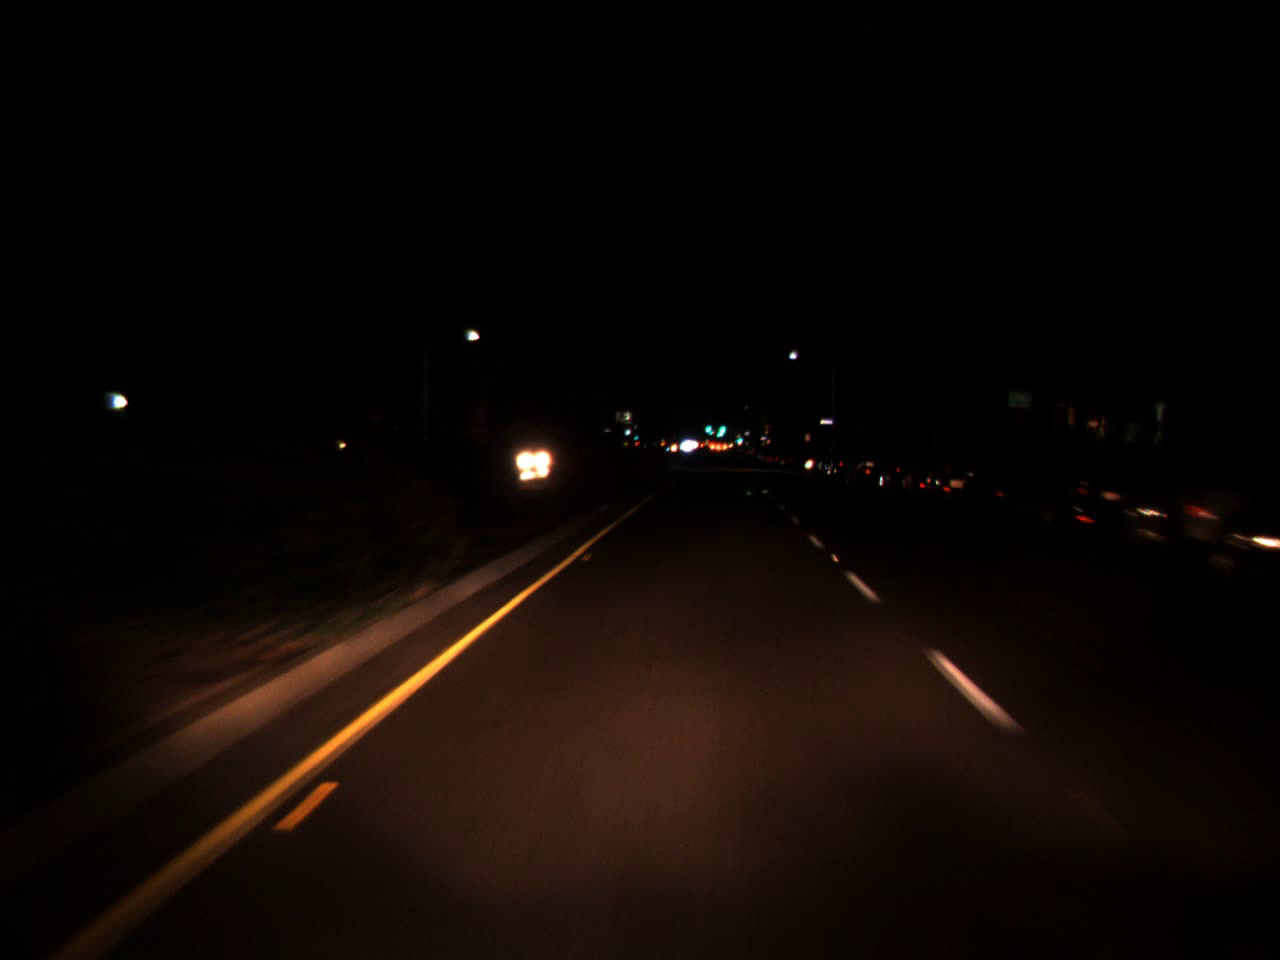go: (701, 410, 715, 440), (715, 417, 727, 435), (733, 429, 743, 444)
